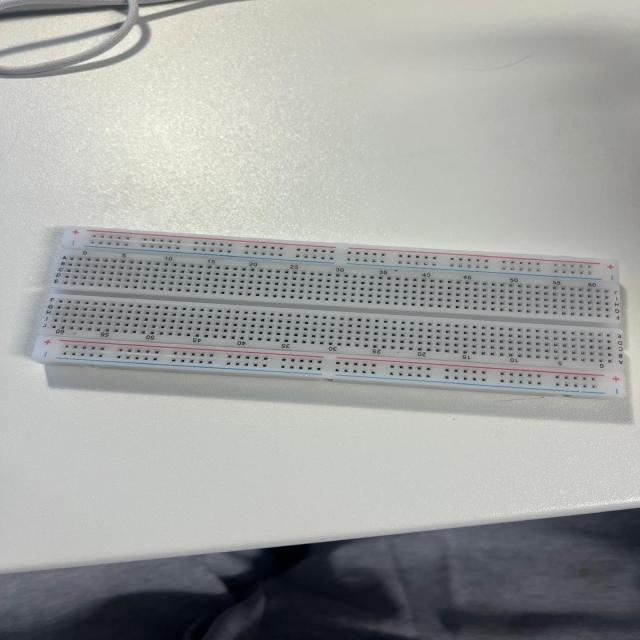BreadBoard: (44, 211, 640, 454)
